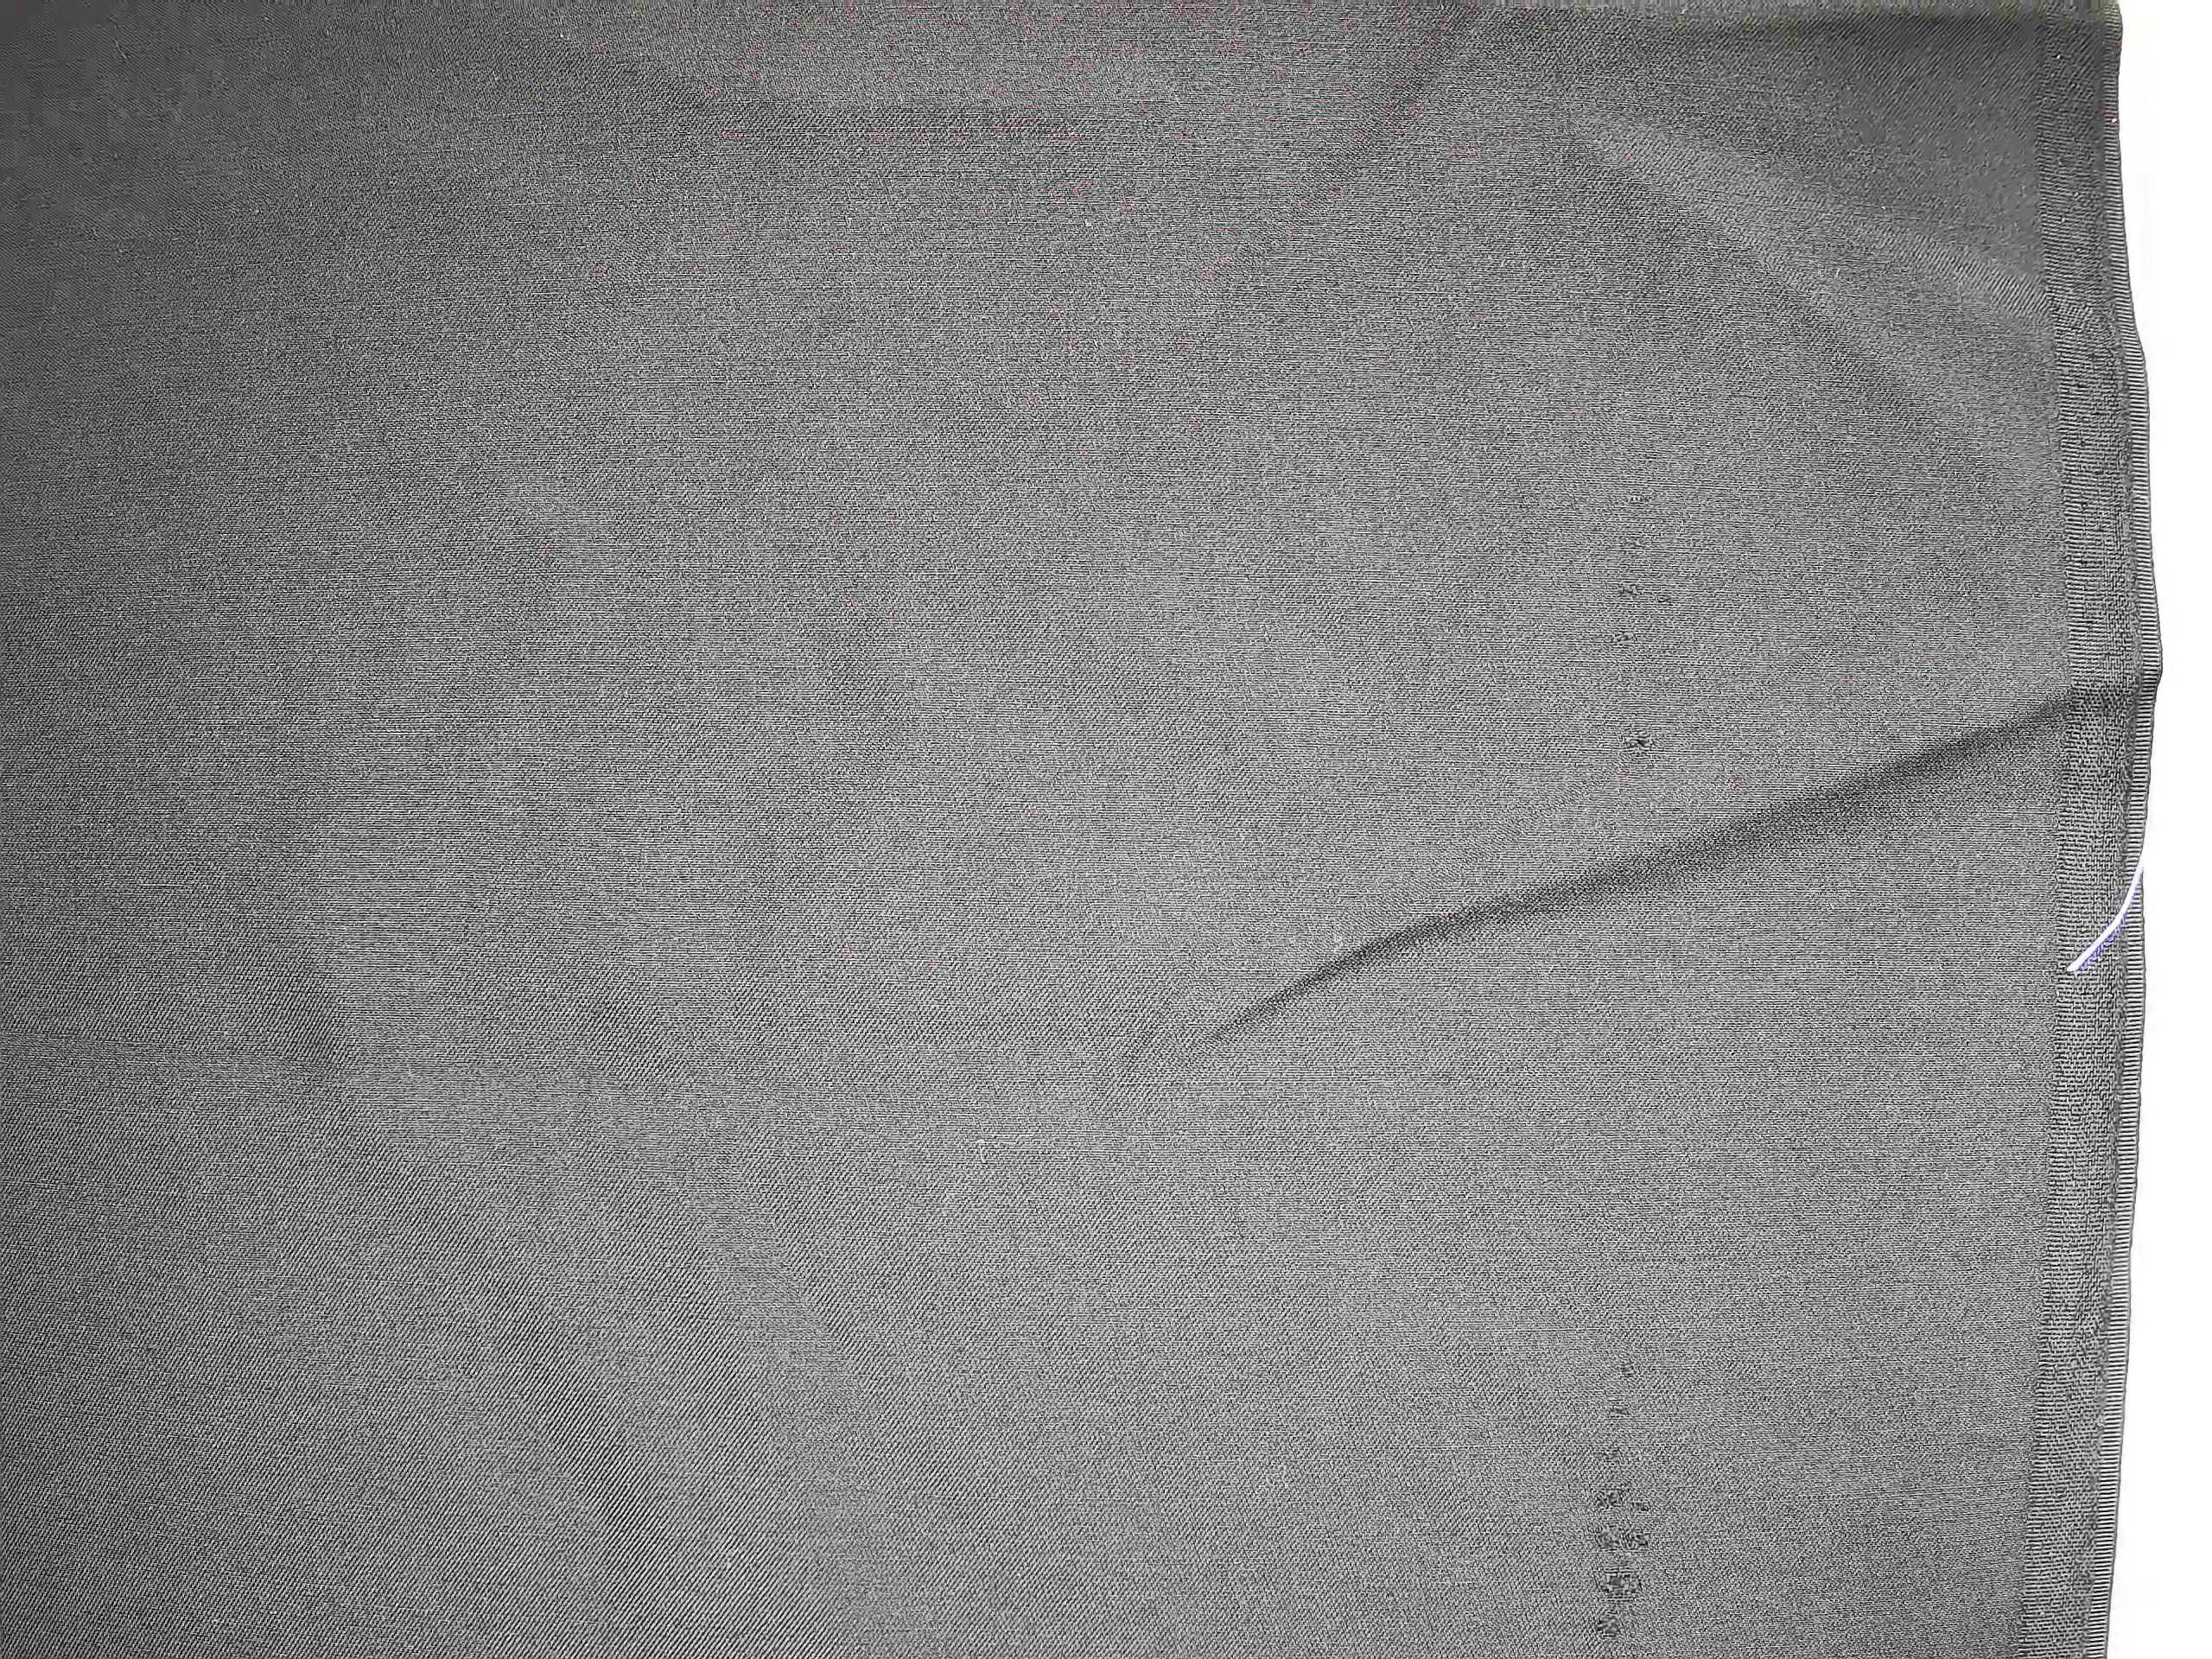puncture-hole: (1597, 246, 1681, 786), (1573, 1347, 1669, 1654)
